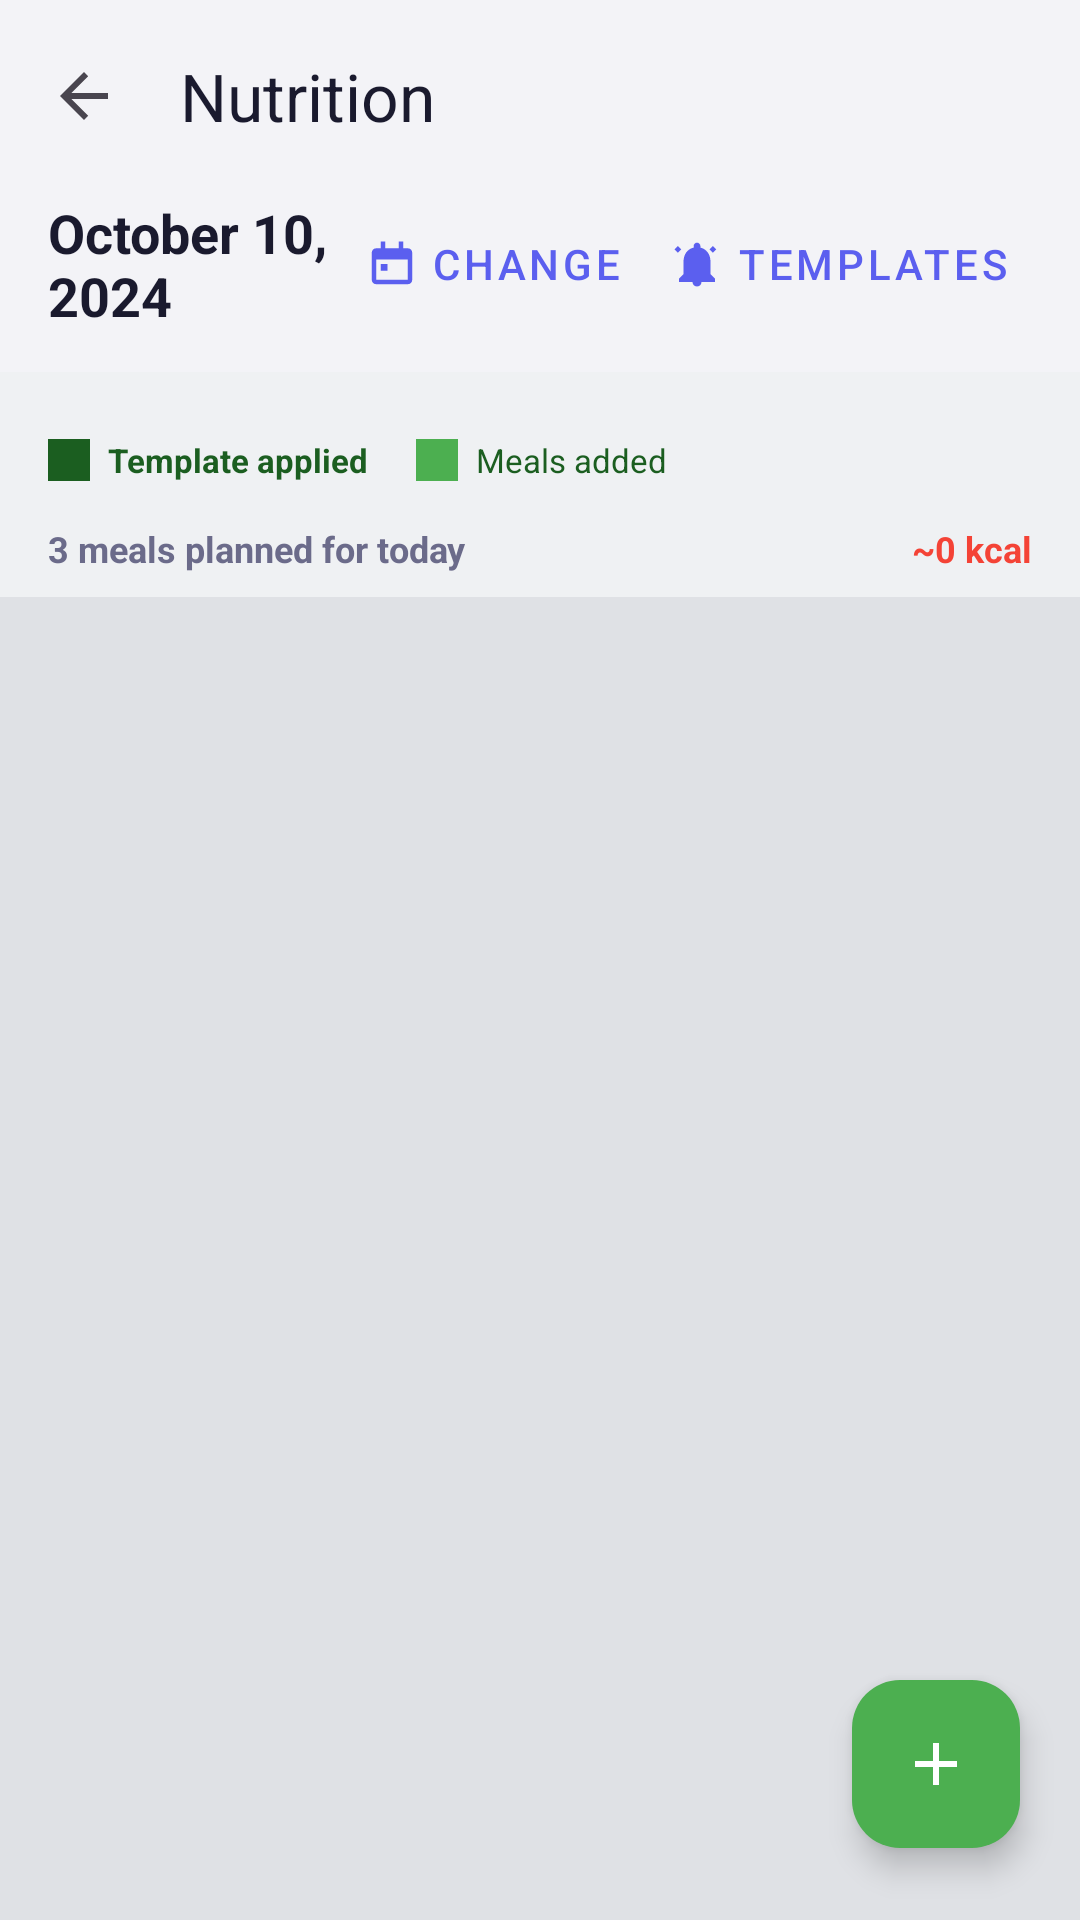

Icons on this 1080px×1920px Android screen, each with the point to tap as (x,y):
Add Meal: (936,1764)
